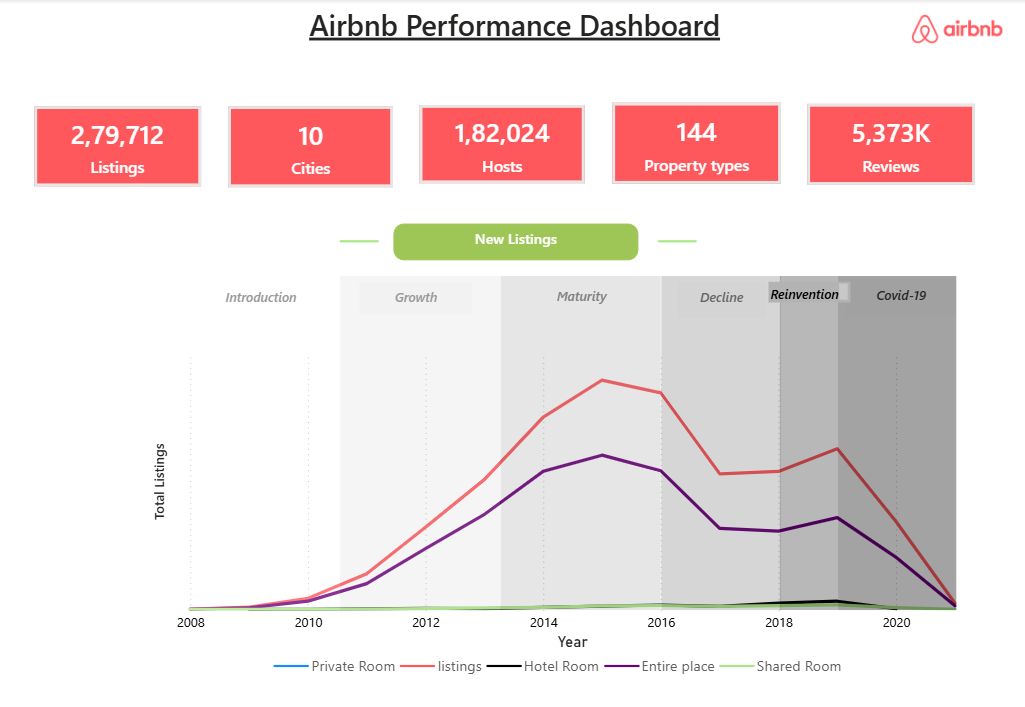

What the dashboard file says about the page in this screenshot:
{"tool":"powerbi","page":{"name":"overview","canvas":[960,720],"ordinal":0},"visuals":[{"type":"textbox","box":[278,0,404,58],"z":0},{"type":"image","box":[824,10,136,37],"z":1000},{"type":"card","fields":{"Values":["CountNonNull(Listings.listing_id)"]},"box":[32.9,99.8,155,74.3],"z":2000},{"type":"card","fields":{"Values":["Count(Reviews.review_id)"]},"box":[752.6,97.7,156,75.4],"z":3000},{"type":"card","fields":{"Values":["Count(Listings.property_type)"]},"box":[570.5,96.6,157.1,75.4],"z":4000},{"type":"card","fields":{"Values":["Count(Listings.host_id)"]},"box":[391.7,98.7,153.9,73.2],"z":5000},{"type":"card","fields":{"Values":["Count(Listings.city)"]},"box":[212.8,99.8,153.9,75.4],"z":6000},{"type":"lineChart","fields":{"Category":["Listings.host_since.Variation.Date Hierarchy.Year"],"Y":["Listings.Private Room","CountNonNull(Listings.listing_id)","Listings.Hotel Room","Listings.Entire place","Listings.Shared Room"]},"box":[139.4,316.5,768.8,323.9],"z":7000},{"type":"textbox","box":[367.3,209.1,228.2,34],"z":8000},{"type":"shape","box":[317.4,187.9,36.1,75.4],"z":9000},{"type":"shape","box":[613.5,187.9,36.1,75.4],"z":10000},{"type":"shape","box":[177.1,257.8,140.4,311],"z":11000},{"type":"textbox","box":[206.4,263.3,82.6,32.1],"z":12000},{"type":"shape","box":[317.4,257.8,149.5,311],"z":13000},{"type":"textbox","box":[335.8,263.3,105.5,30.3],"z":14000},{"type":"shape","box":[467,257.8,149.5,311],"z":15000},{"type":"textbox","box":[492.7,262.4,100,33.9],"z":16000},{"type":"shape","box":[616.5,257.8,111,311],"z":17000},{"type":"textbox","box":[631.2,263.3,82.6,33.9],"z":18000},{"type":"shape","box":[727.5,257.8,54.1,311],"z":19000},{"type":"shape","box":[781.7,257.8,110.1,311],"z":20000},{"type":"textbox","box":[789,261.5,102.8,33.9],"z":21000},{"type":"textbox","box":[717,263,76,19],"z":22000}]}

Visuals, with their boxes on the page's 960x720 design canvas (x1, y1, x2, y2). These are canvas units, not pixel positions in the 1025x707 screenshot, which may show the page scaled, cropped or inside an application window:
textbox: locate(278, 0, 682, 58)
image: locate(824, 10, 960, 47)
card - CountNonNull(Listings.listing_id): locate(33, 100, 188, 174)
card - Count(Reviews.review_id): locate(753, 98, 909, 173)
card - Count(Listings.property_type): locate(570, 97, 728, 172)
card - Count(Listings.host_id): locate(392, 99, 546, 172)
card - Count(Listings.city): locate(213, 100, 367, 175)
lineChart - Listings.host_since.Variation.Date Hierarchy.Year x Listings.Private Room: locate(139, 316, 908, 640)
textbox: locate(367, 209, 596, 243)
shape: locate(317, 188, 354, 263)
shape: locate(614, 188, 650, 263)
shape: locate(177, 258, 318, 569)
textbox: locate(206, 263, 289, 295)
shape: locate(317, 258, 467, 569)
textbox: locate(336, 263, 441, 294)
shape: locate(467, 258, 616, 569)
textbox: locate(493, 262, 593, 296)
shape: locate(616, 258, 728, 569)
textbox: locate(631, 263, 714, 297)
shape: locate(728, 258, 782, 569)
shape: locate(782, 258, 892, 569)
textbox: locate(789, 262, 892, 295)
textbox: locate(717, 263, 793, 282)
